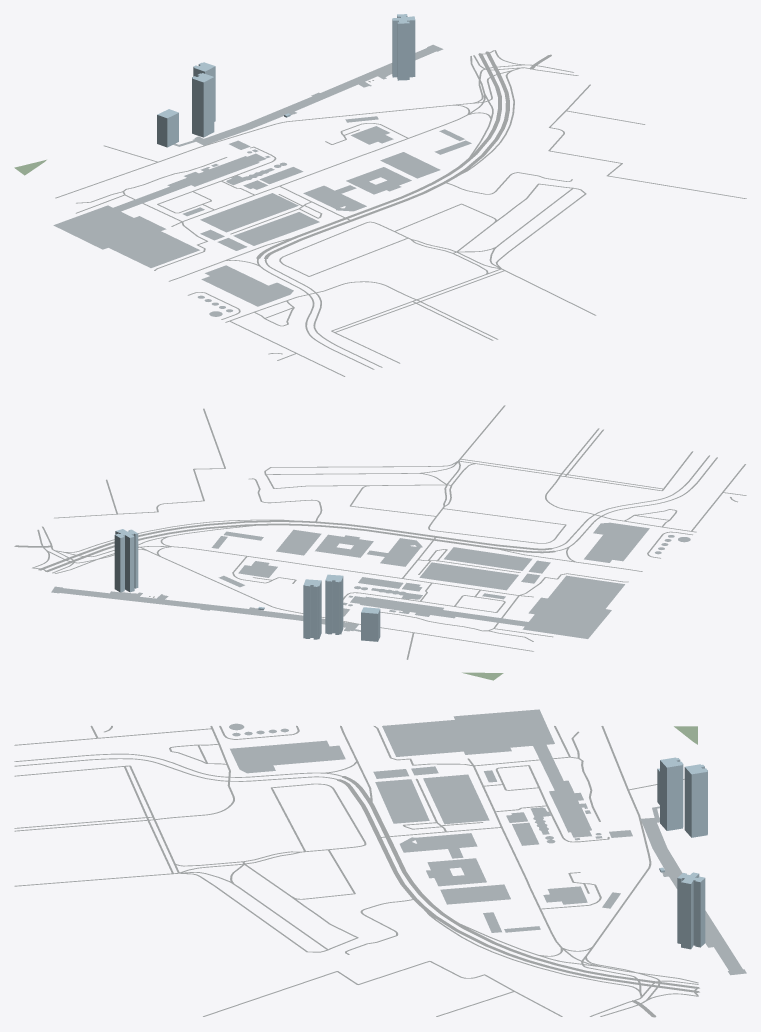
Rendered from -14_-8-known-coarse.glb.
3 renders of one model, top to bottom at view 1: azimuth 30°, elevation 25°; view 2: azimuth 150°, elevation 25°; view 3: azimuth 270°, elevation 25°, orthographic. The views are drawn at different scales.
Size of the model in its own units: 1062 by 105 by 1067.
